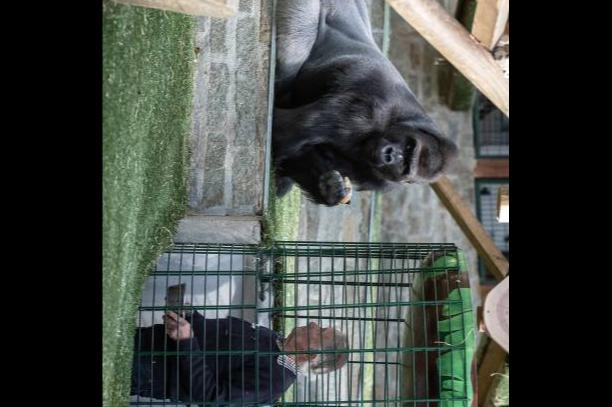gorille_Autres: (284, 0, 454, 206)
